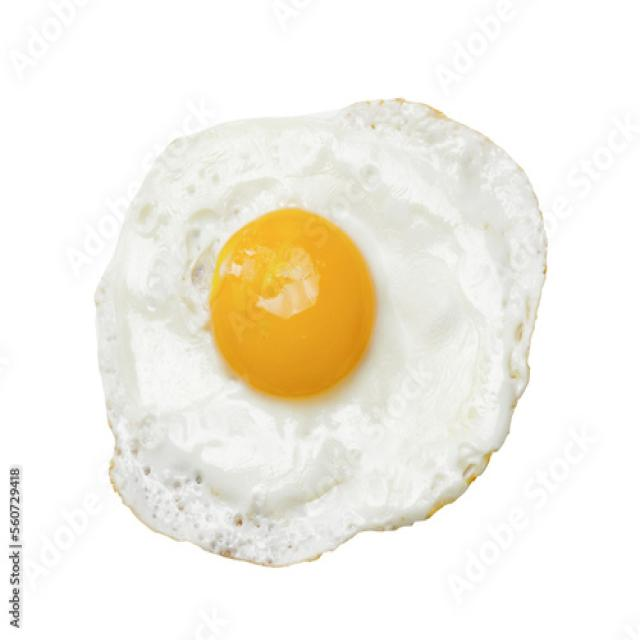Egg: (96, 100, 546, 564)
